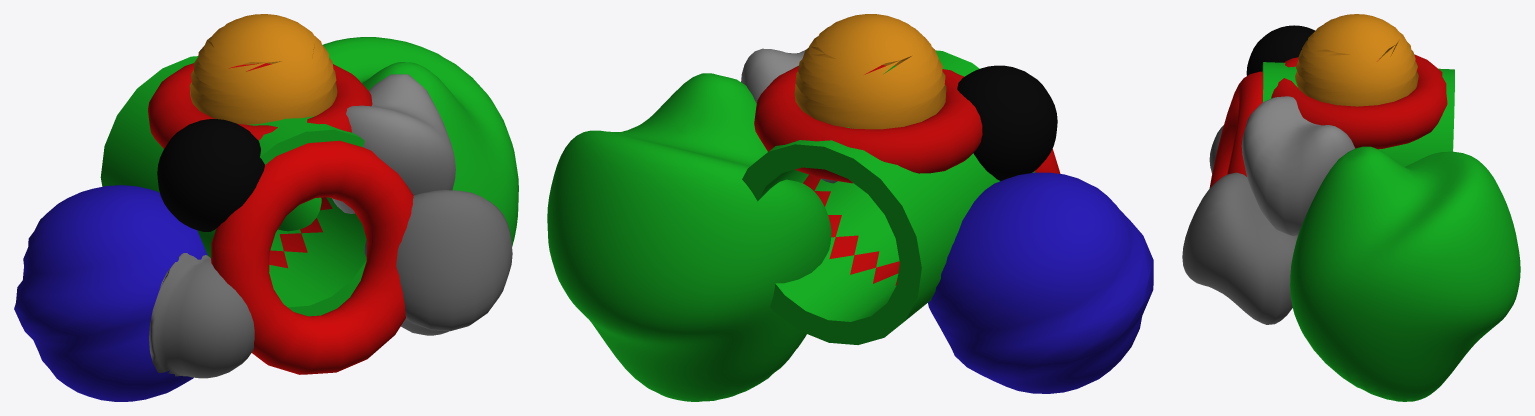
File: endPoint.dae
3 renders of one model, left to right at view 1: azimuth 30°, elevation 25°; view 2: azimuth 150°, elevation 25°; view 3: azimuth 270°, elevation 25°, orthographic. The views are drawn at different scales.
Visible parts, largest first — view 1: pSphere4, pTorus1, pPipe1, pSphere1, pSphere7, pSphere8, pSphere2, pSphere5, pSphere6, pTorus2, pPipe2; view 2: pSphere7, pSphere4, pPipe1, pSphere8, pTorus2, pSphere5, pPipe2, pSphere6; view 3: pSphere7, pSphere1, pSphere6, pSphere8, pTorus2, pPipe1, pTorus1, pSphere5.
Part boxes in pixels (x1=…): pSphere4: x1=14, y1=185, x2=207, y2=401; pTorus1: x1=211, y1=140, x2=413, y2=374; pPipe1: x1=100, y1=56, x2=366, y2=316; pSphere1: x1=364, y1=190, x2=512, y2=335; pSphere7: x1=278, y1=37, x2=518, y2=246; pSphere8: x1=189, y1=14, x2=337, y2=124; pSphere2: x1=149, y1=253, x2=254, y2=378; pSphere5: x1=157, y1=119, x2=264, y2=231; pSphere6: x1=332, y1=74, x2=455, y2=213; pTorus2: x1=148, y1=63, x2=372, y2=148; pPipe2: x1=269, y1=197, x2=332, y2=268; pSphere7: x1=547, y1=73, x2=831, y2=401; pSphere4: x1=928, y1=172, x2=1153, y2=393; pPipe1: x1=742, y1=50, x2=1035, y2=344; pSphere8: x1=794, y1=14, x2=946, y2=129; pTorus2: x1=754, y1=65, x2=982, y2=183; pSphere5: x1=957, y1=65, x2=1057, y2=181; pPipe2: x1=803, y1=174, x2=899, y2=285; pSphere6: x1=741, y1=48, x2=837, y2=183; pSphere7: x1=1290, y1=146, x2=1520, y2=401; pSphere1: x1=1182, y1=172, x2=1297, y2=324; pSphere6: x1=1241, y1=96, x2=1354, y2=235; pSphere8: x1=1295, y1=14, x2=1418, y2=106; pTorus2: x1=1271, y1=54, x2=1447, y2=149; pPipe1: x1=1262, y1=62, x2=1454, y2=166; pTorus1: x1=1209, y1=71, x2=1262, y2=187; pSphere5: x1=1246, y1=25, x2=1315, y2=75.
Size of the model in its own units: 12.05 by 8.33 by 8.22.
